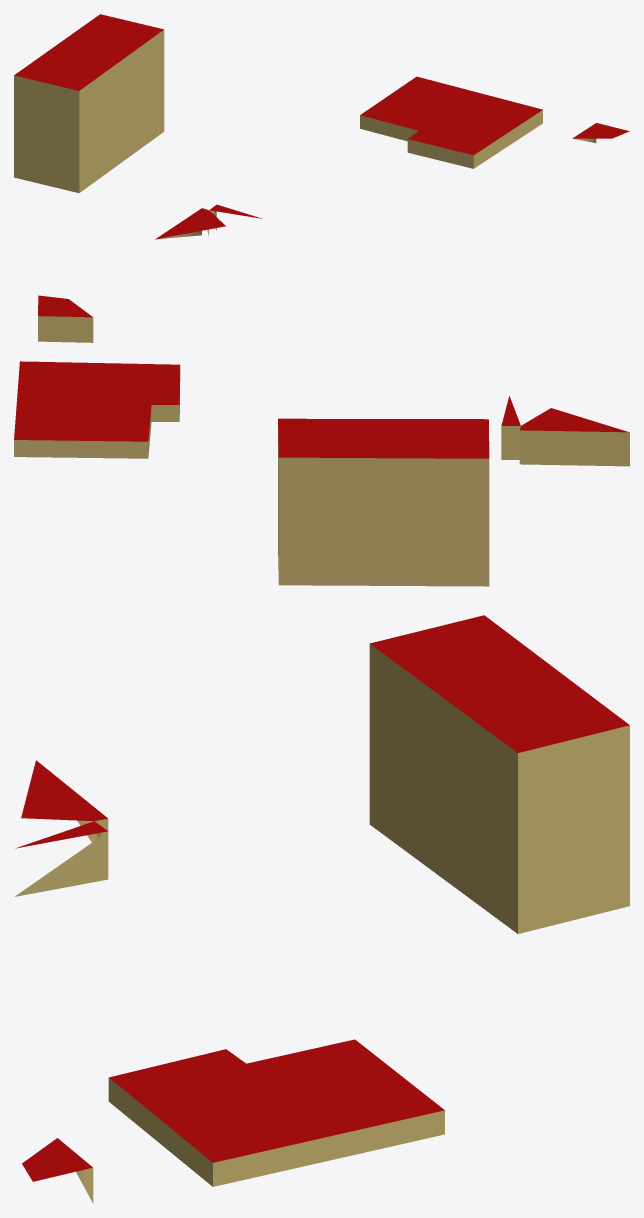
The picture shows the model from 3 angles, top to bottom: view 1: azimuth 30°, elevation 25°; view 2: azimuth 150°, elevation 25°; view 3: azimuth 270°, elevation 25°; orthographic projection. The views are drawn at different scales.
Bounding box in the file's own units: 188 × 37.5 × 116.
